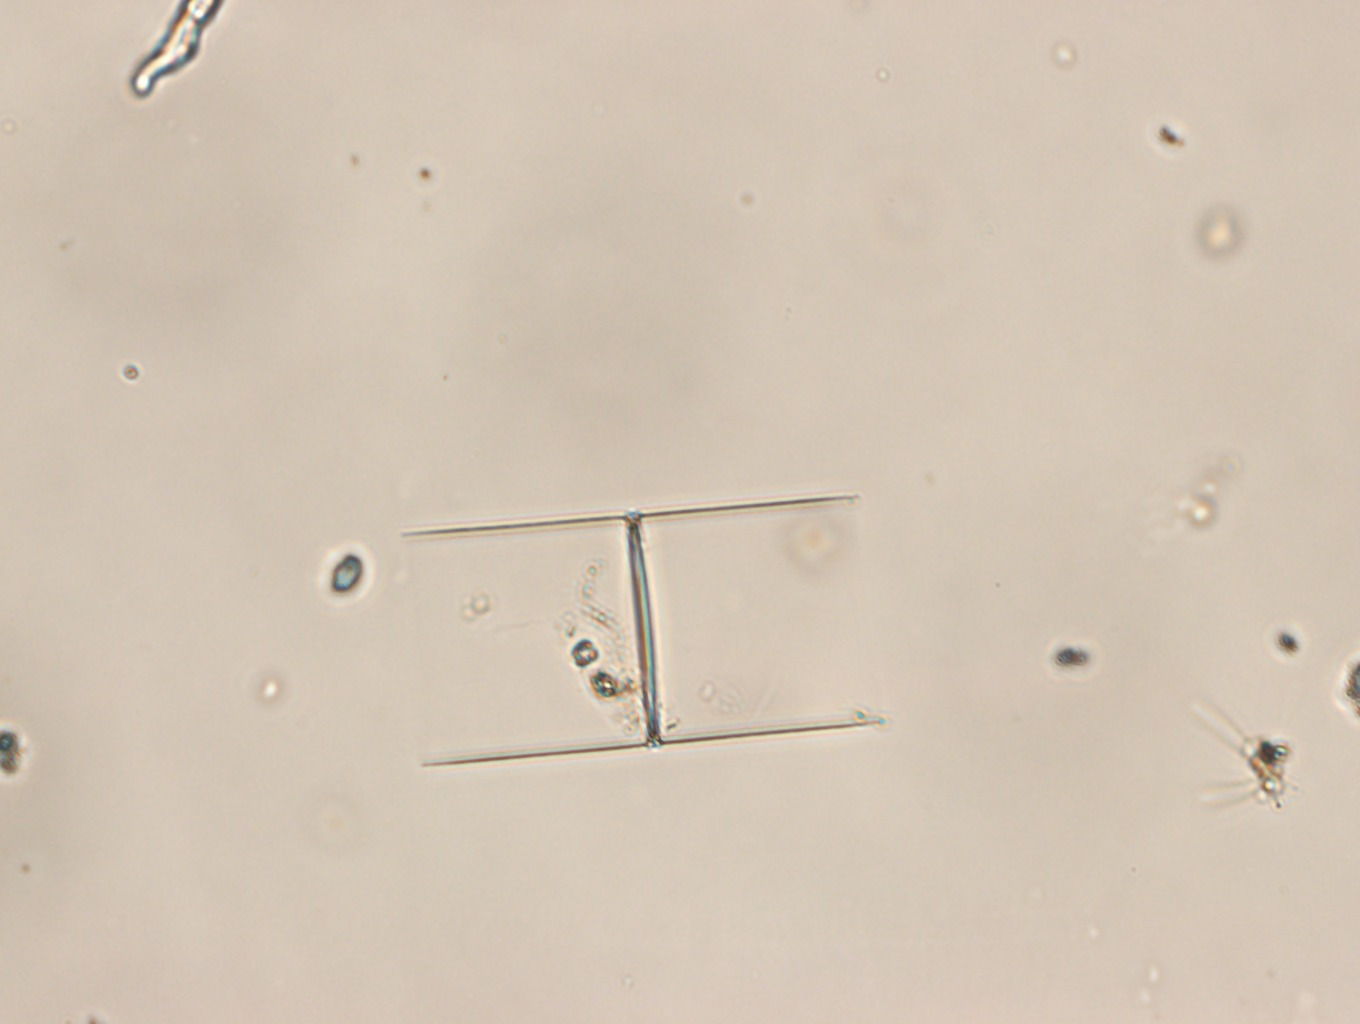guinardia flaccida: (400, 493, 889, 768)
